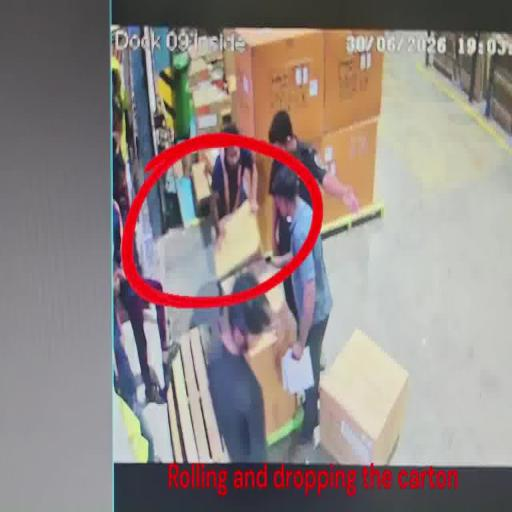carton: (316, 328, 412, 463), (228, 30, 326, 158), (237, 254, 301, 445), (324, 41, 384, 137), (326, 116, 378, 210), (214, 205, 260, 281)
pallet: (164, 323, 229, 463), (318, 196, 386, 242)
person: (270, 171, 333, 448), (267, 106, 361, 249), (206, 271, 271, 464), (113, 198, 168, 408), (207, 115, 260, 253)
